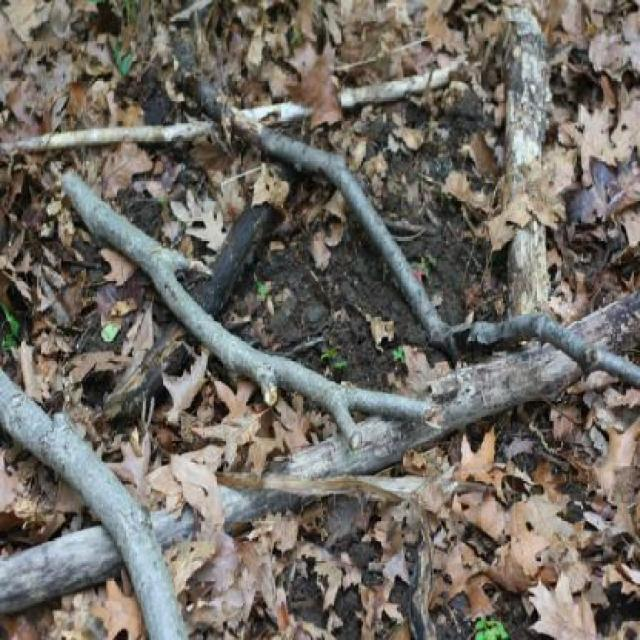garbage: (6, 200, 634, 518), (6, 432, 638, 640), (5, 3, 634, 196)
